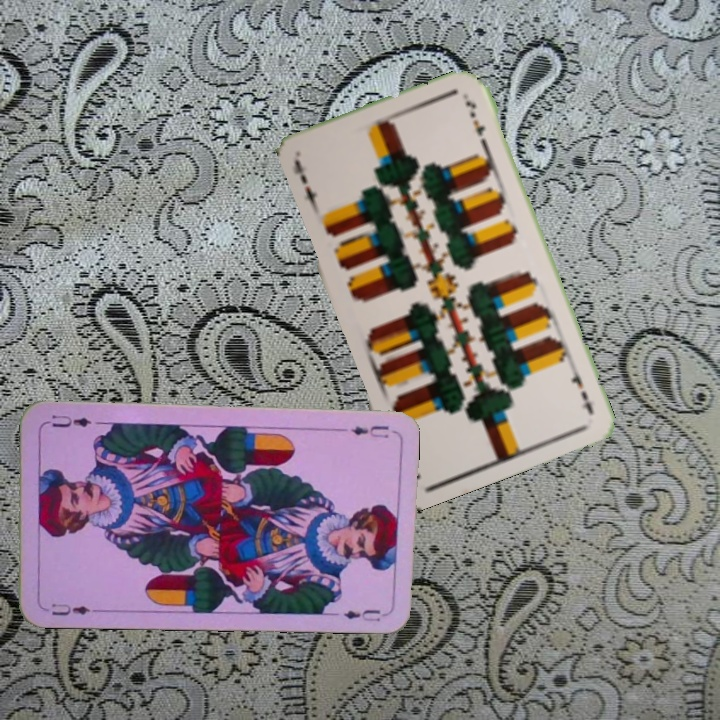E7: (289, 156, 321, 213), (565, 362, 596, 418)
EU: (47, 600, 100, 618), (347, 421, 391, 439)
